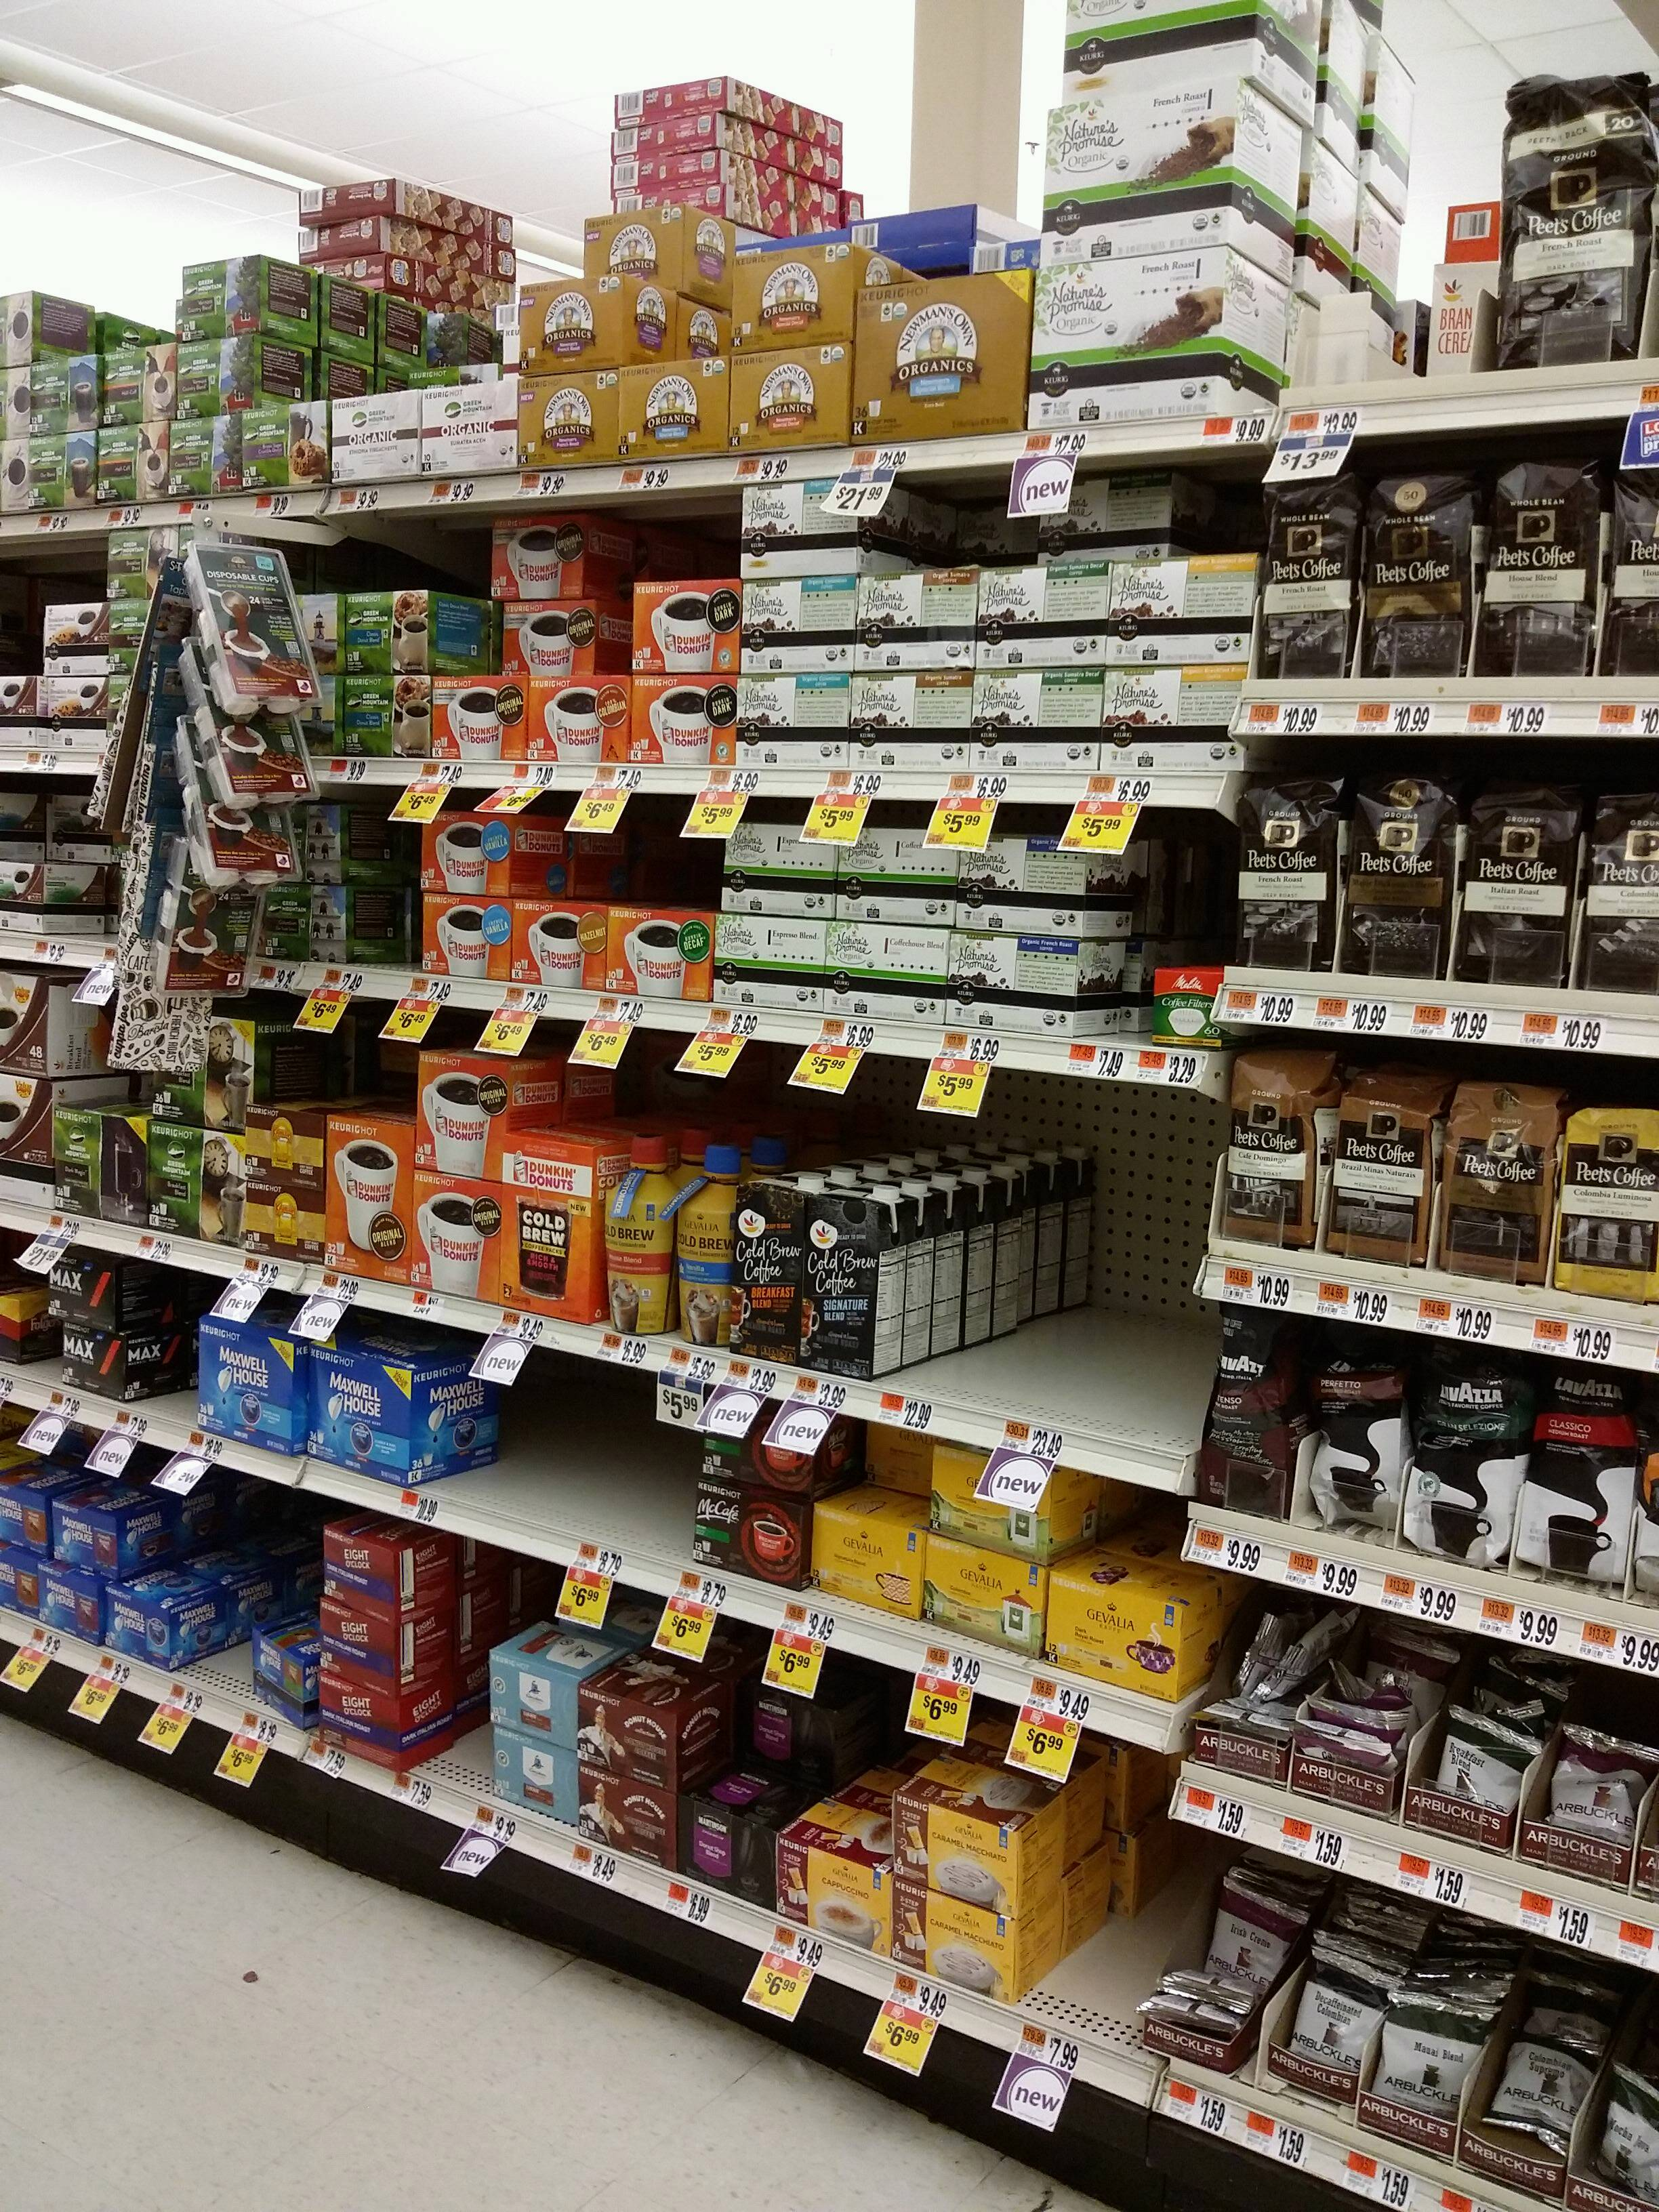Misplacement: (505, 808, 716, 1000), (629, 488, 742, 766), (798, 1418, 932, 1629), (678, 1693, 802, 1895)
Out-of-stock: (878, 1130, 1202, 1458), (411, 1338, 695, 1583), (1018, 1759, 1188, 2054), (396, 1564, 484, 1810), (340, 806, 420, 977), (120, 1273, 199, 1440), (1075, 907, 1154, 1040), (171, 1606, 253, 1714), (45, 860, 119, 944)
